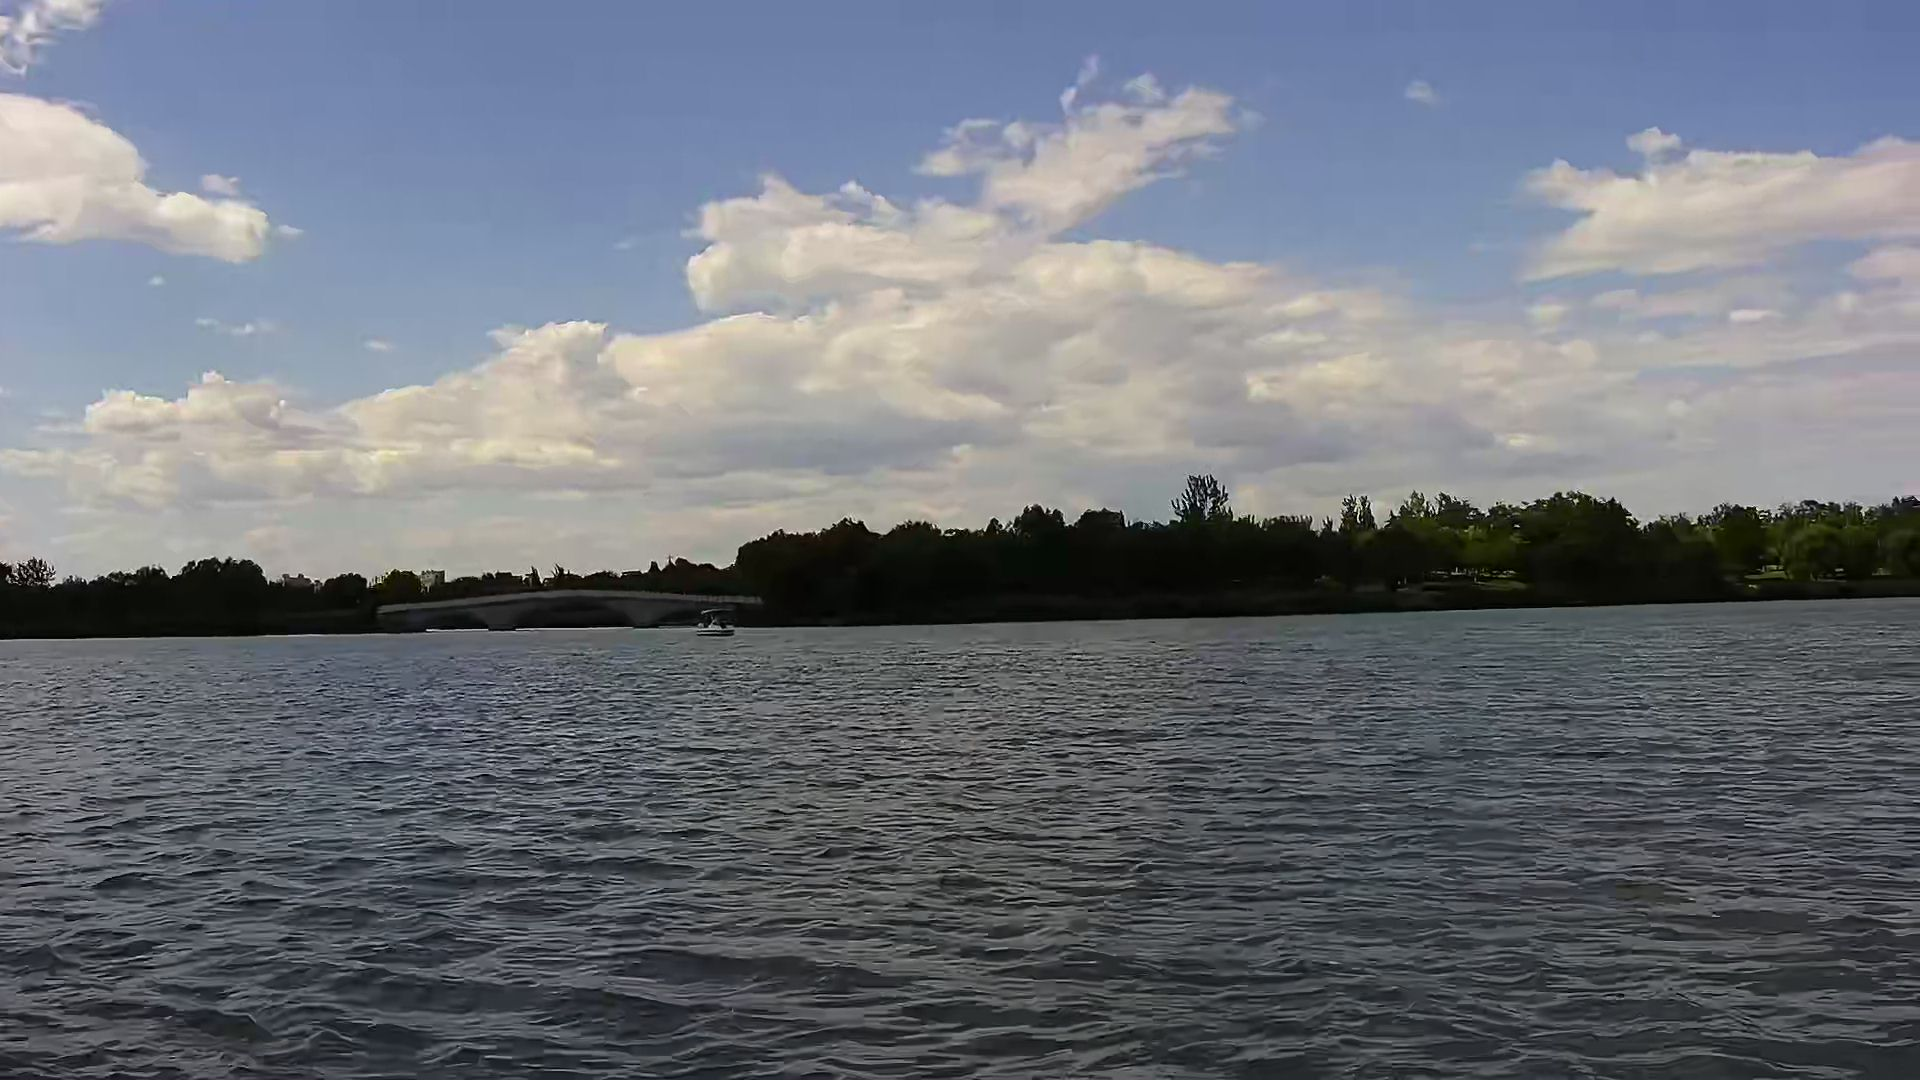boat: (691, 604, 737, 636)
bridge: (372, 591, 758, 632)
